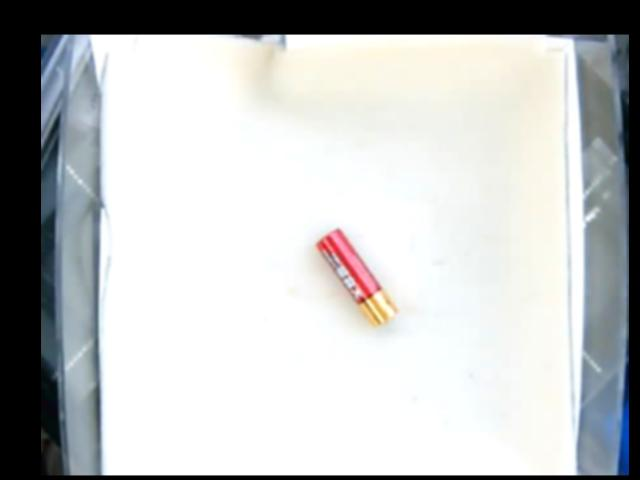Battery: (315, 225, 398, 324)
